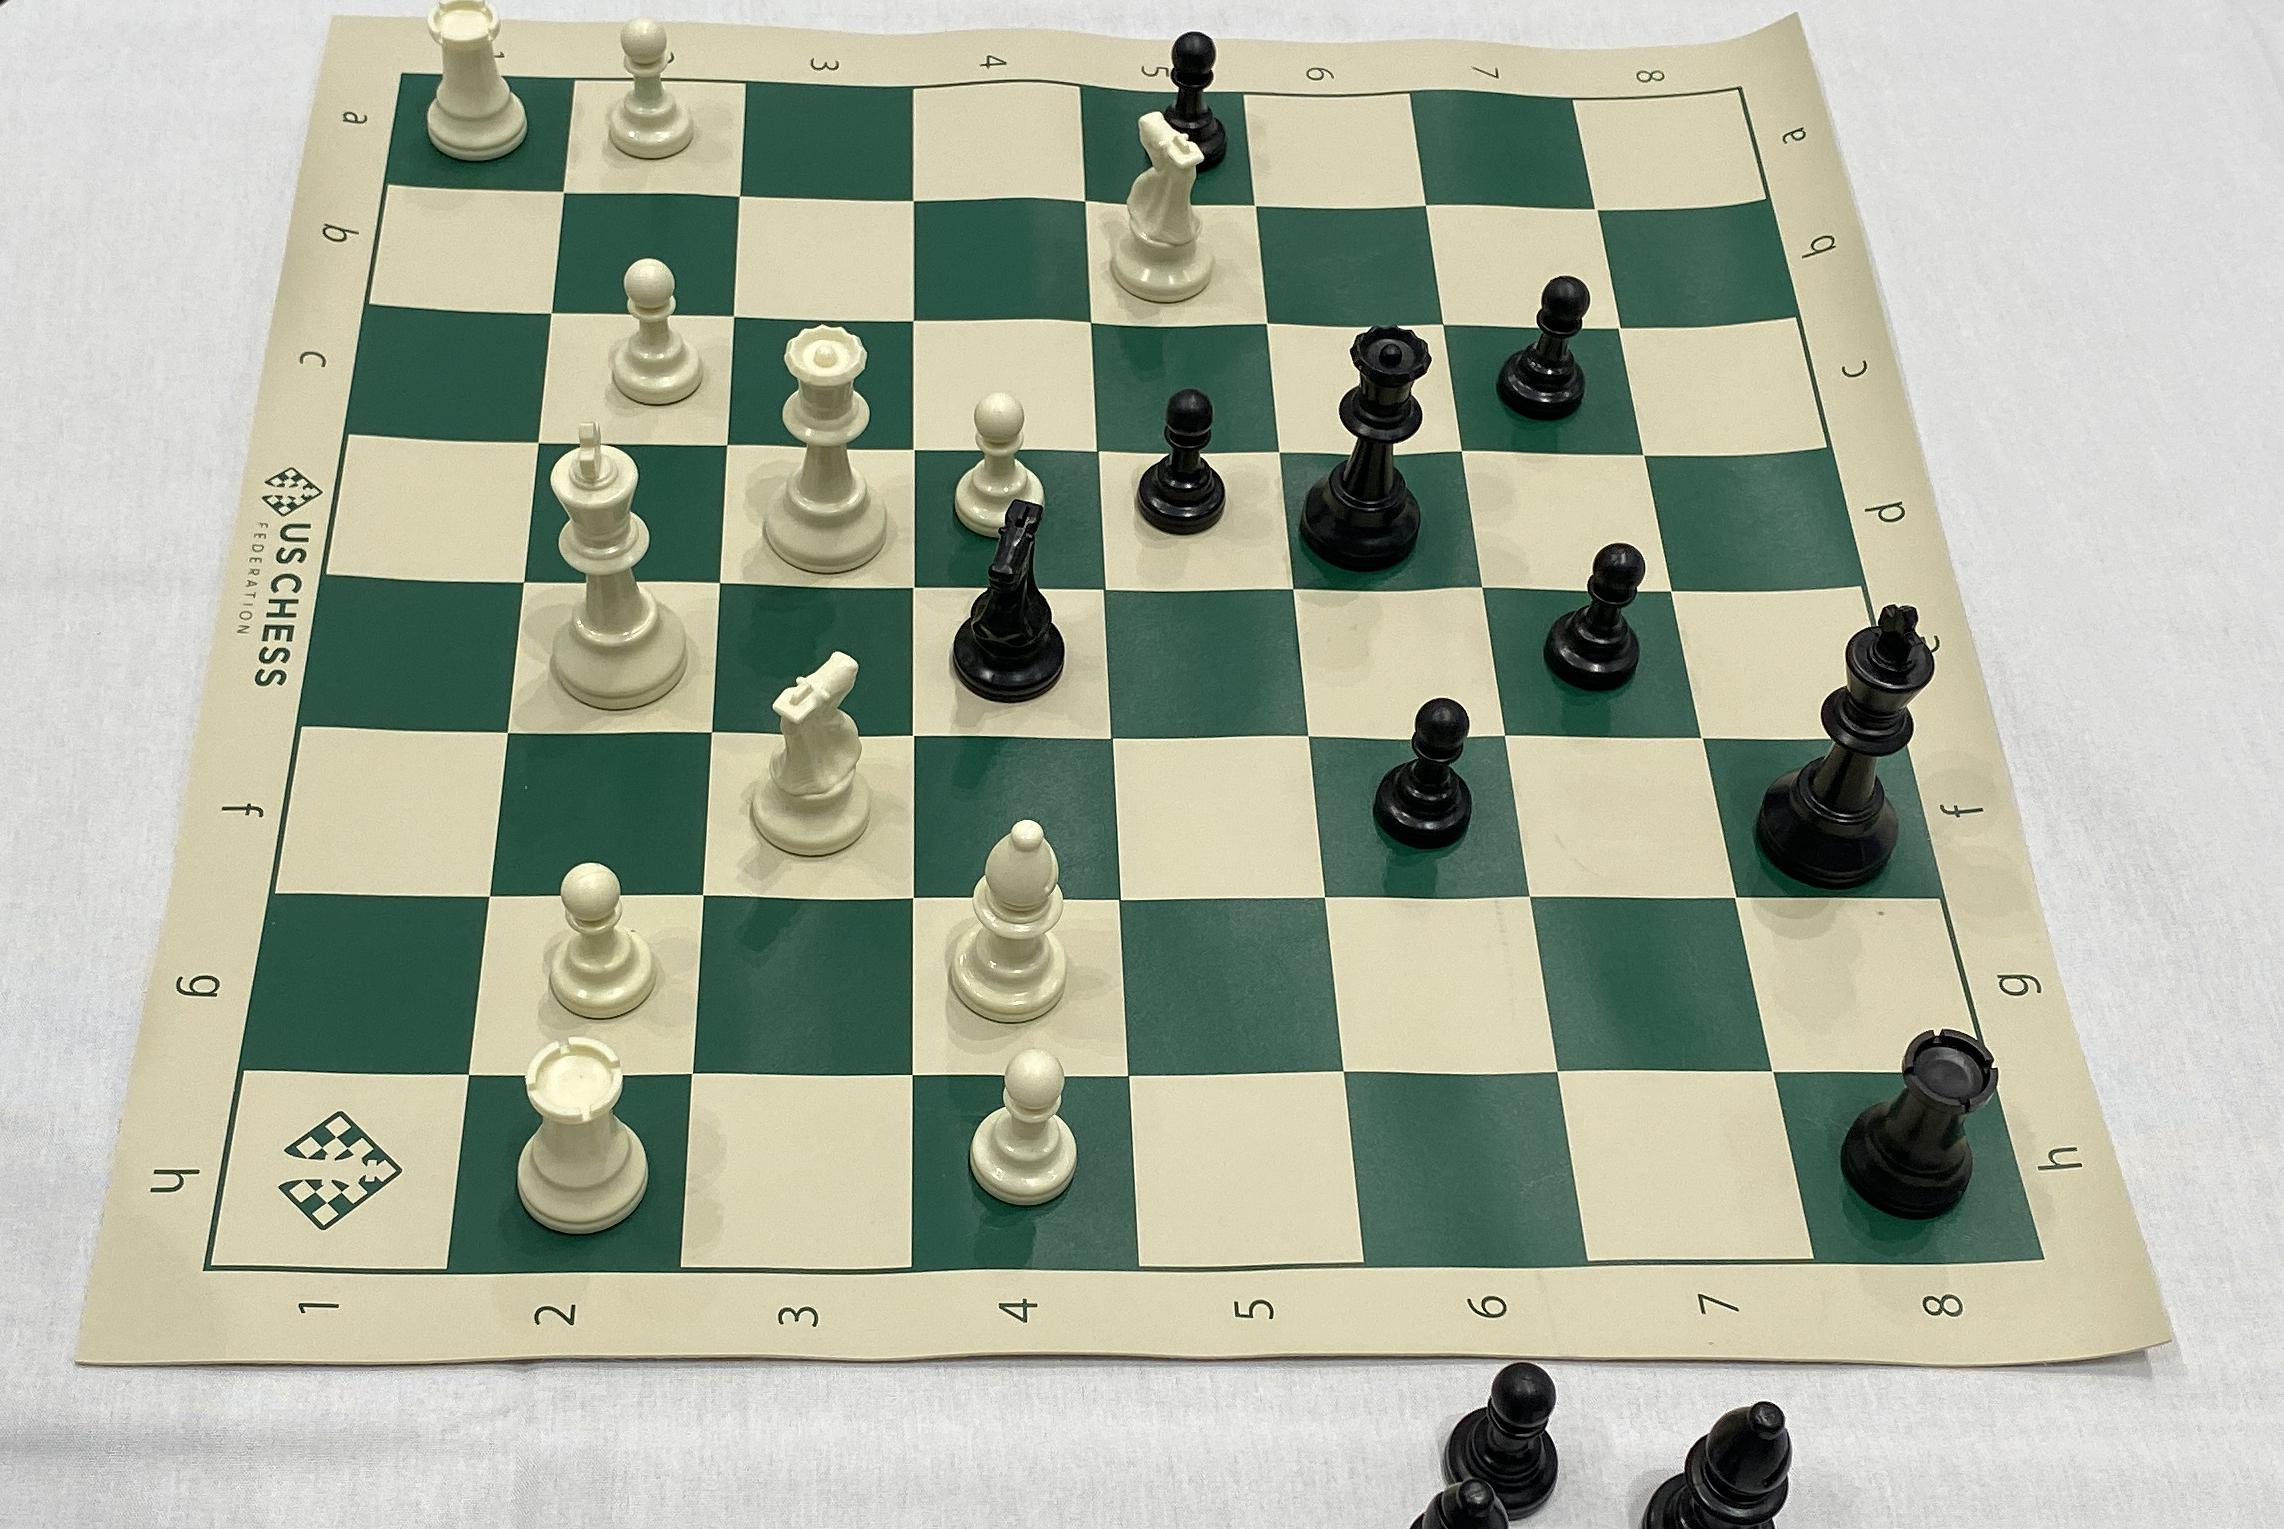black-king: (1745, 589, 1945, 903)
black-knight: (938, 497, 1083, 706)
black-pawn: (1361, 686, 1487, 853), (1535, 534, 1658, 698), (1493, 266, 1603, 435), (1124, 382, 1237, 541), (1153, 22, 1233, 171)
black-queen: (1295, 316, 1438, 580)
black-rook: (1830, 997, 2004, 1235)
white-bishop: (947, 805, 1080, 1027)
white-king: (525, 411, 698, 712)
white-knight: (742, 637, 885, 858), (1104, 104, 1223, 311)
white-pawn: (948, 1041, 1087, 1210), (534, 855, 665, 1022), (594, 251, 710, 410), (595, 9, 703, 162), (948, 384, 1051, 534)
white-queen: (761, 307, 896, 585)
white-rook: (491, 1031, 670, 1242), (414, 0, 536, 167)
